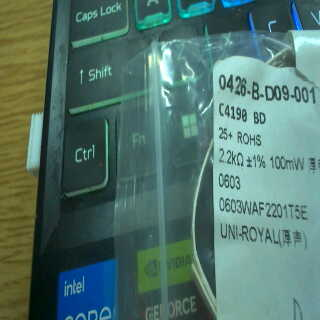2.2kR: (216, 147, 246, 167)
